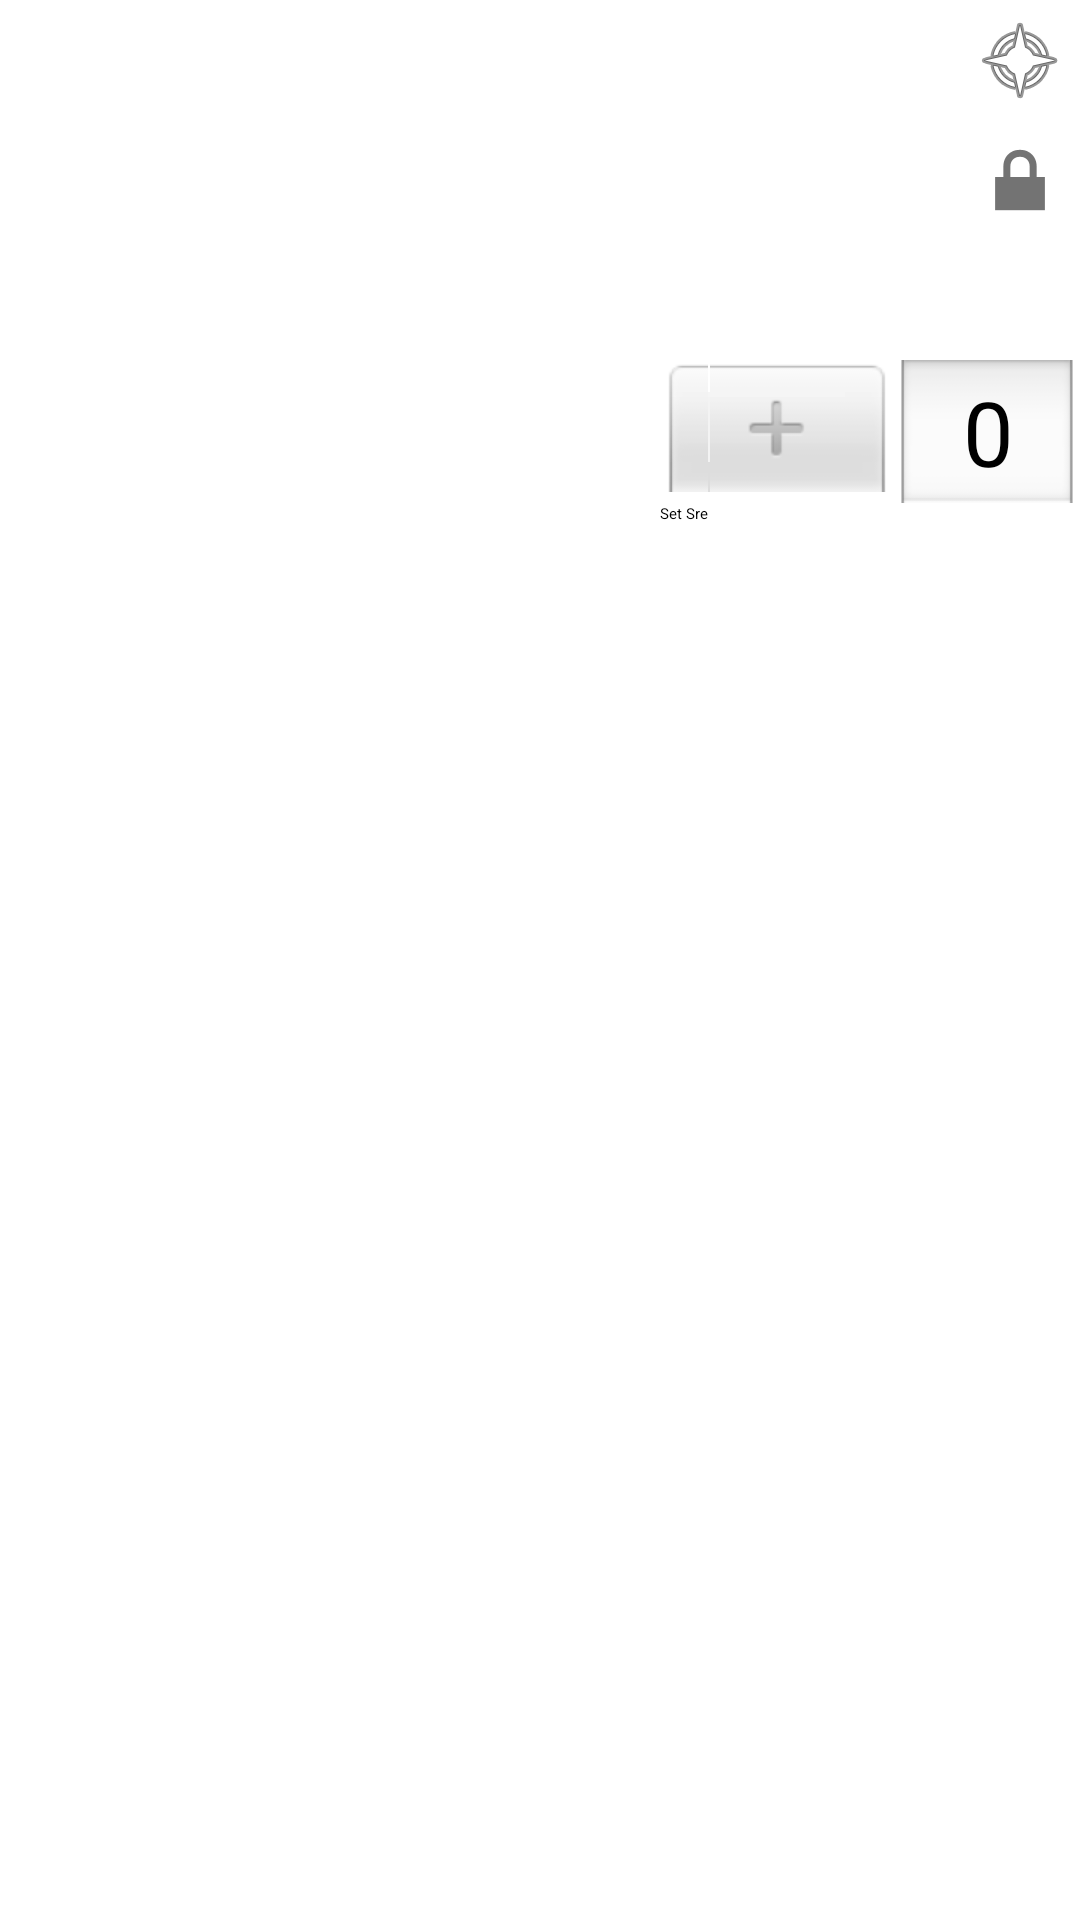

Named icons in this screenshot (1080x1920) and their bounding boxes, (x1, y1, x2, y2):
lock: (995, 149, 1045, 211)
